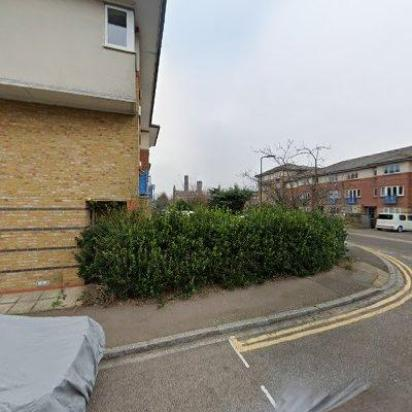stationary-car-onstreet: (0, 310, 108, 412)
stationary-light-truck-onstreet: (374, 210, 412, 230)
